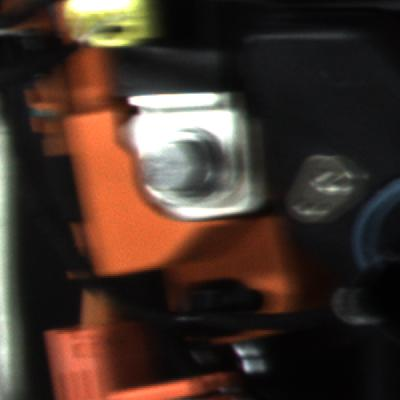nut_b: (136, 123, 238, 209)
